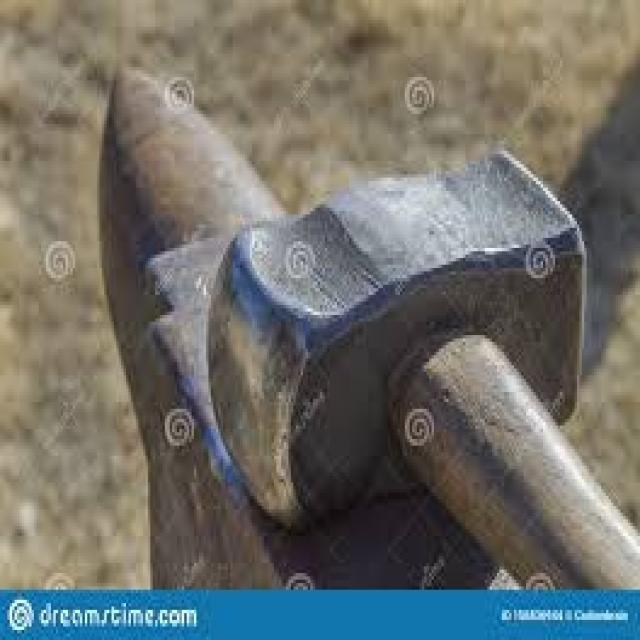hammer: (186, 135, 640, 591)
